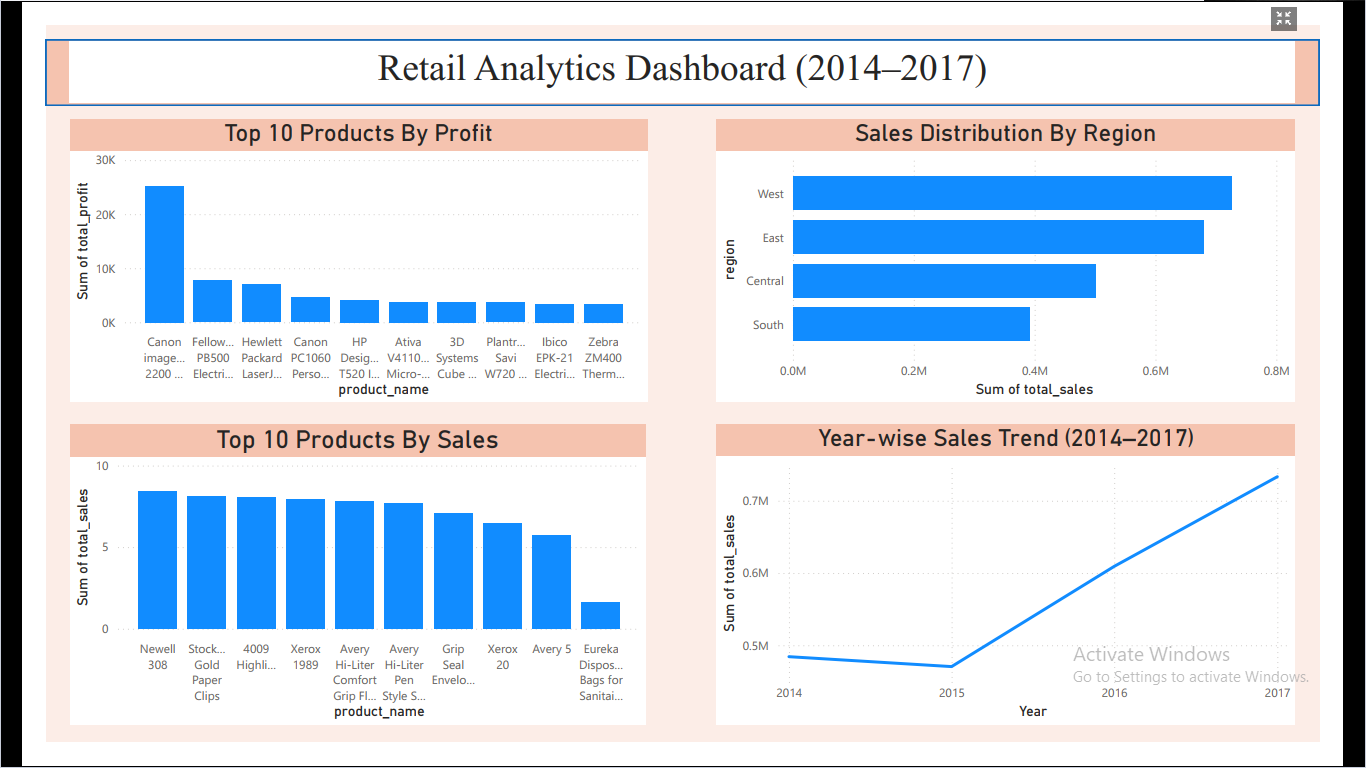

Layout of this report page (visuals, bound fields, positions):
{"tool":"powerbi","page":{"name":"Page 1","canvas":[1280,720],"ordinal":0},"visuals":[{"type":"lineChart","title":"Year-wise Sales Trend (2014–2017)","fields":{"Category":["monthly_sales_summary.order_month.Variation.Date Hierarchy.Year","monthly_sales_summary.order_month.Variation.Date Hierarchy.Quarter","monthly_sales_summary.order_month.Variation.Date Hierarchy.Month","monthly_sales_summary.order_month.Variation.Date Hierarchy.Day"],"Y":["Sum(monthly_sales_summary.total_sales)"]},"box":[673.7,400.3,582.6,301.7],"z":0},{"type":"barChart","title":"Sales Distribution By Region","fields":{"Category":["sales_by_region.region"],"Y":["Sum(sales_by_region.total_sales)"]},"box":[673.7,94.1,582.6,283.8],"z":1000},{"type":"columnChart","title":"Top 10 Products By Profit","fields":{"Y":["Sum(top_10_products_profit.total_profit)"],"Category":["top_10_products_profit.product_name"]},"box":[23.9,94.1,581.1,283.8],"z":2000},{"type":"clusteredColumnChart","title":"Top 10 Products By Sales","fields":{"Y":["Sum(top_10_products_sales.total_sales)"],"Category":["top_10_products_sales.product_name"]},"box":[23.9,400.3,579.6,301.7],"z":3000},{"type":"shape","box":[0,13.7,1280,66.6],"z":4000},{"type":"textbox","box":[23.9,15.4,1232.1,61.5],"z":5000}]}

Visuals, with their boxes in screenshot pixels (x1, y1, x2, y2), scaled from the page's 1280x720 canvas onto the 1366x768 screenshot:
"Year-wise Sales Trend (2014–2017)" lineChart: detection(719, 427, 1341, 749)
"Sales Distribution By Region" barChart: detection(719, 100, 1341, 403)
"Top 10 Products By Profit" columnChart: detection(26, 100, 646, 403)
"Top 10 Products By Sales" clusteredColumnChart: detection(26, 427, 644, 749)
shape: detection(0, 15, 1365, 86)
textbox: detection(26, 16, 1340, 82)
